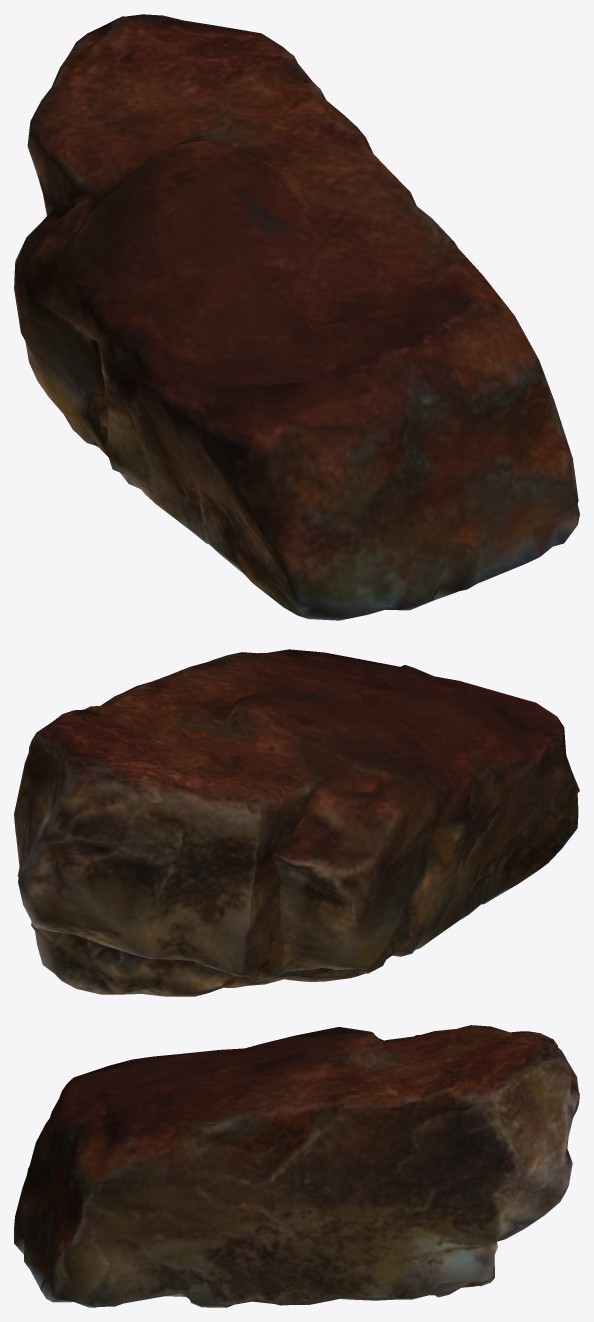
File: rock_07.gltf
3 renders of one model, top to bottom at view 1: azimuth 30°, elevation 25°; view 2: azimuth 150°, elevation 25°; view 3: azimuth 270°, elevation 25°, orthographic. The views are drawn at different scales.
Visible parts, largest first — view 1: rock_07; view 2: rock_07; view 3: rock_07.
Boxes of the visible parts, x1,y1,x2,y2 form: rock_07: (14,14,579,620); rock_07: (14,649,579,996); rock_07: (14,1025,579,1307).
Size of the model in its own units: 0.1686 by 0.1434 by 0.3199.
Materials: 1 (1 with a texture image).
